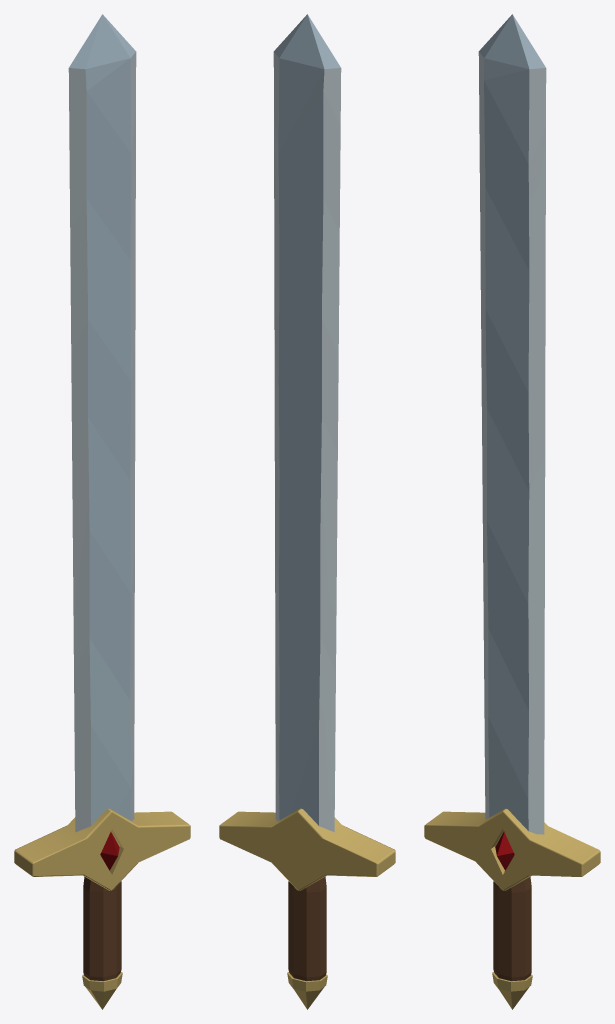
File: Sword.fbx
3 renders of one model, left to right at view 1: azimuth 30°, elevation 25°; view 2: azimuth 150°, elevation 25°; view 3: azimuth 330°, elevation 25°, orthographic.
Parts seen in each view (by area): view 1: Blade - solid sharpened hexagonal section_export, Angular crossguard_export, Octagonal leather grip_export, Pommel collar_export, Diamond-cut ruby_export; view 2: Blade - solid sharpened hexagonal section_export, Angular crossguard_export, Octagonal leather grip_export, Pommel collar_export; view 3: Blade - solid sharpened hexagonal section_export, Angular crossguard_export, Octagonal leather grip_export, Pommel collar_export, Diamond-cut ruby_export.
Part boxes in pixels (x1,y1,x2,y2): Blade - solid sharpened hexagonal section_export: (68, 14, 136, 832); Angular crossguard_export: (14, 808, 190, 890); Octagonal leather grip_export: (83, 871, 121, 981); Pommel collar_export: (82, 971, 122, 991); Diamond-cut ruby_export: (100, 831, 119, 870); Blade - solid sharpened hexagonal section_export: (273, 14, 341, 832); Angular crossguard_export: (219, 808, 395, 890); Octagonal leather grip_export: (288, 876, 326, 981); Pommel collar_export: (287, 971, 327, 991); Blade - solid sharpened hexagonal section_export: (478, 14, 546, 834); Angular crossguard_export: (424, 808, 600, 890); Octagonal leather grip_export: (493, 871, 531, 981); Pommel collar_export: (492, 971, 532, 991); Diamond-cut ruby_export: (495, 831, 514, 870).
Bounding box in the file's own units: 0.201 × 1.2 × 0.055.
